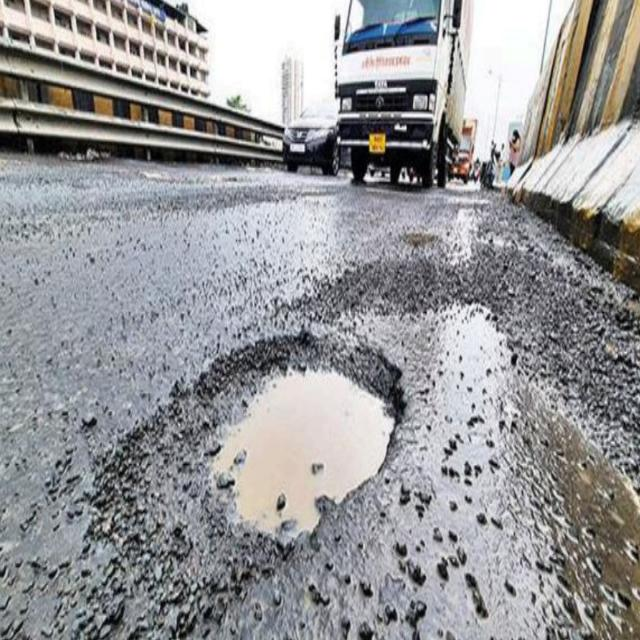Pothole: (199, 366, 402, 562)
